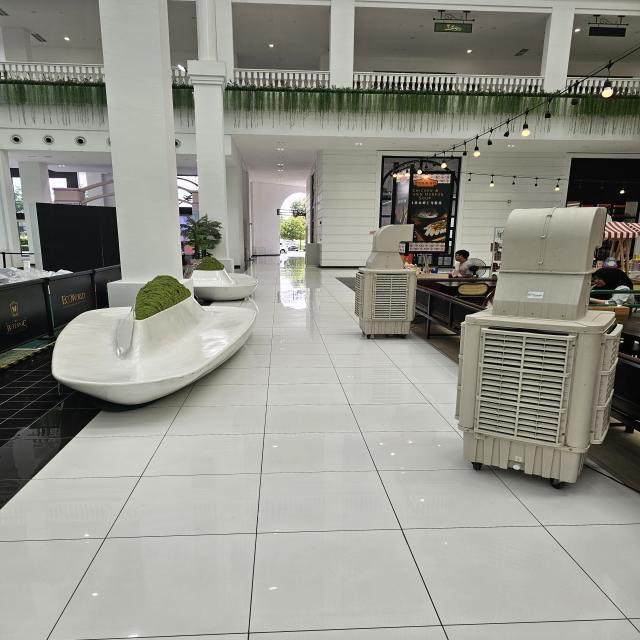footpath: (8, 410, 436, 640), (265, 276, 350, 406)
obstacle: (453, 203, 624, 490), (63, 282, 255, 401), (351, 222, 420, 341)
